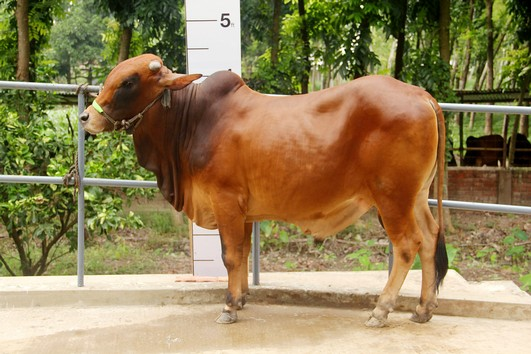cow: (74, 49, 457, 338)
